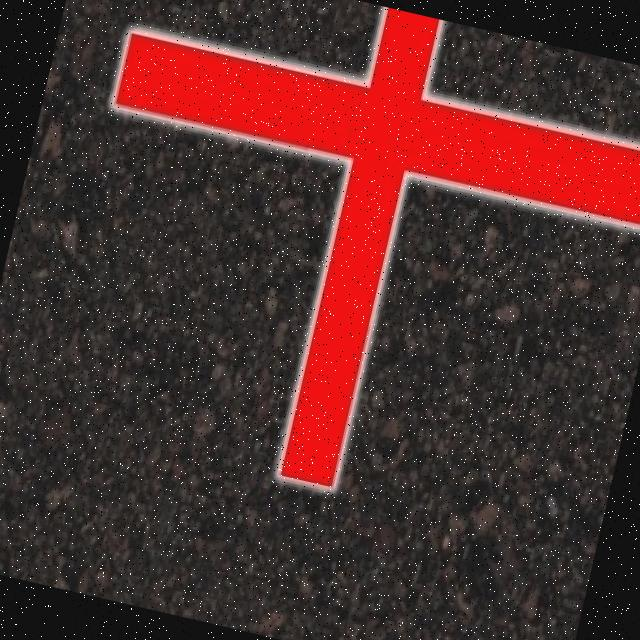x_marker: (39, 0, 640, 542)
